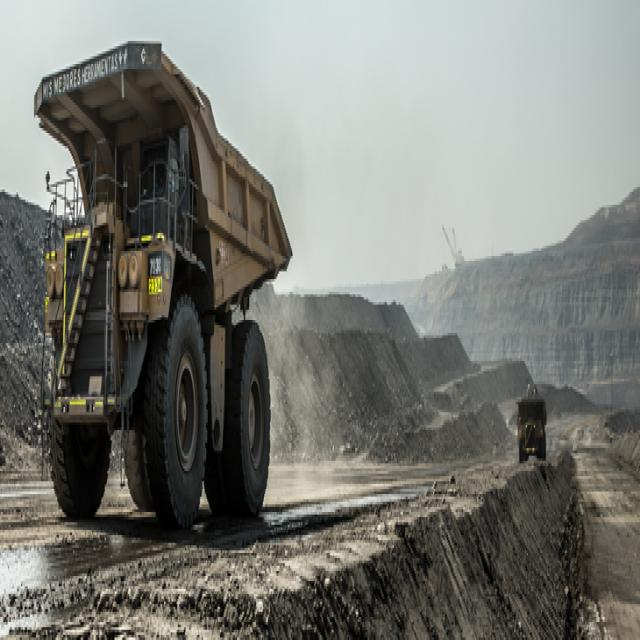dump_truck: (11, 36, 298, 555), (512, 343, 551, 471)
